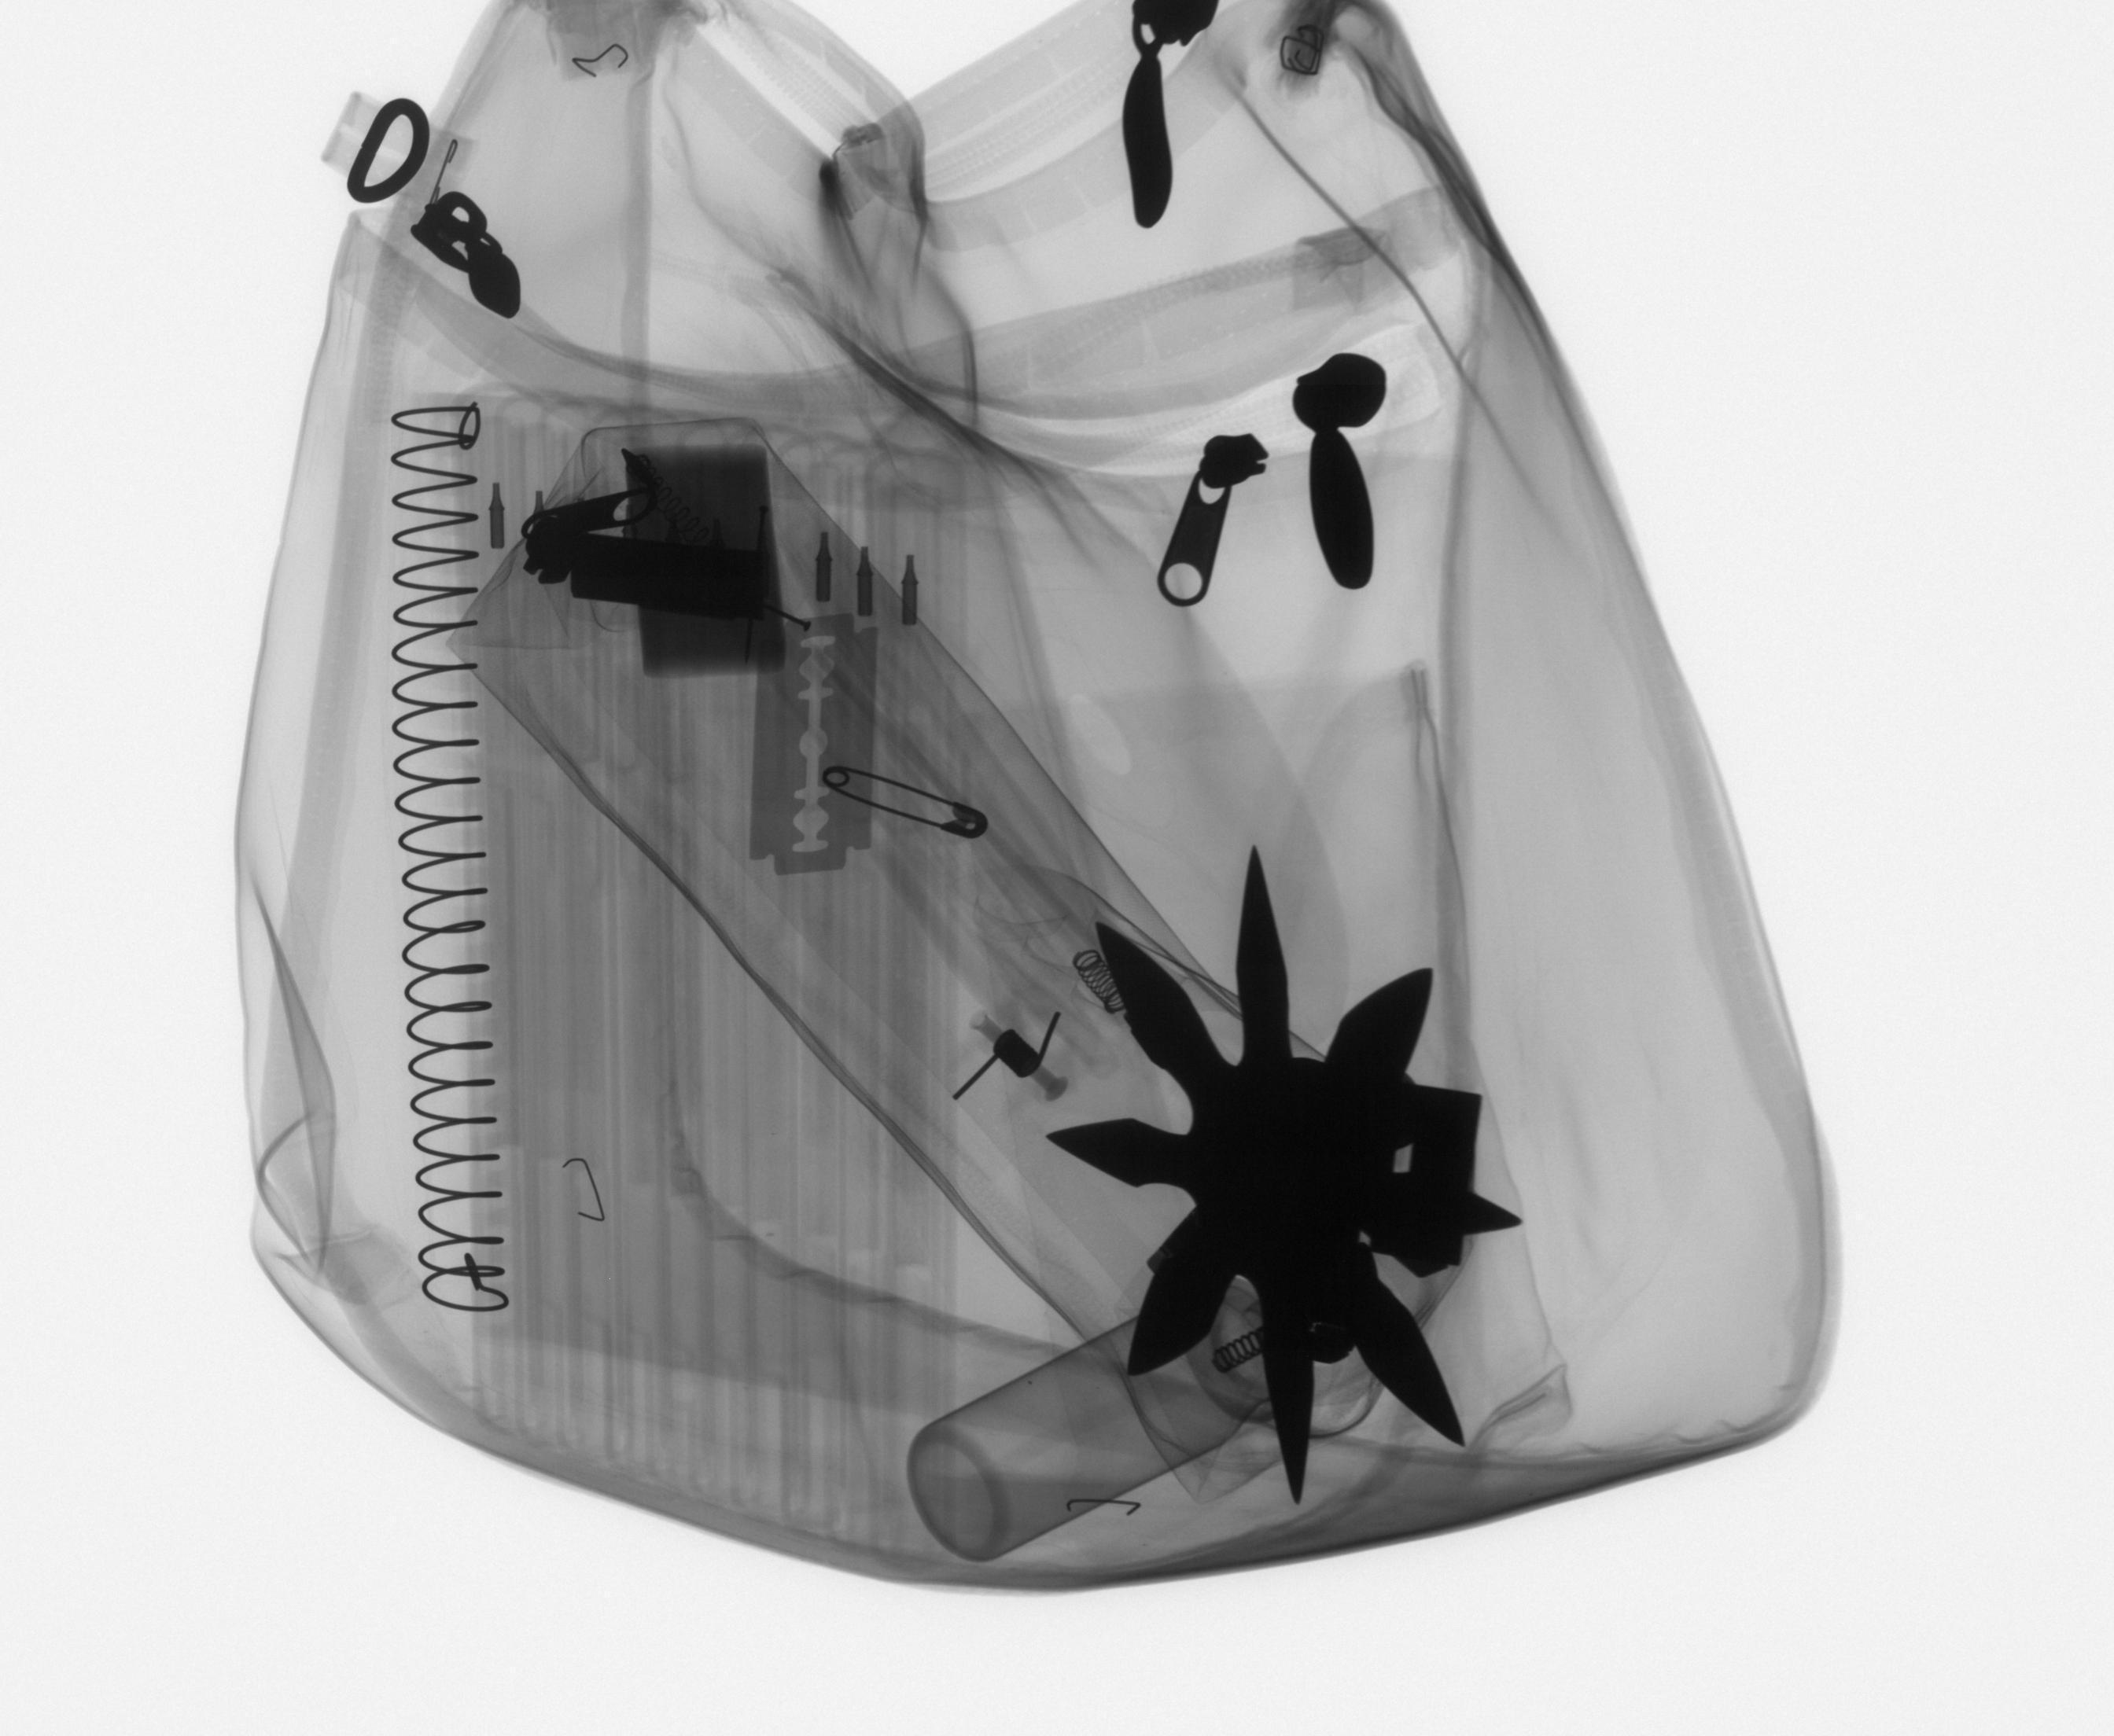RazorBlade: (739, 606, 888, 886)
Shuriken: (1032, 832, 1533, 1517)
